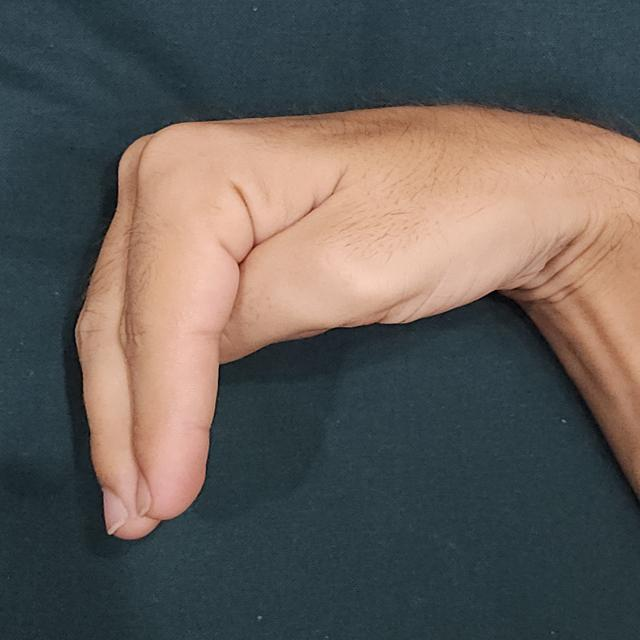ڈ: (59, 90, 640, 559)
